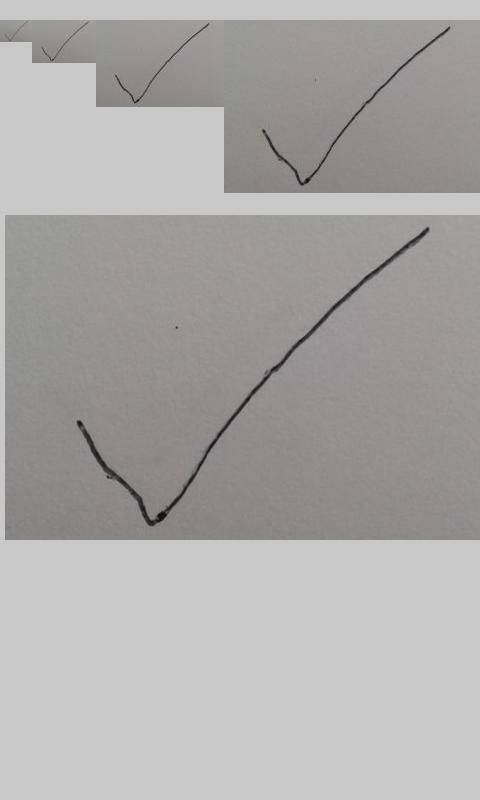check_box: (79, 228, 426, 528), (261, 26, 451, 186), (115, 23, 209, 103), (41, 23, 86, 61), (4, 23, 26, 41)
